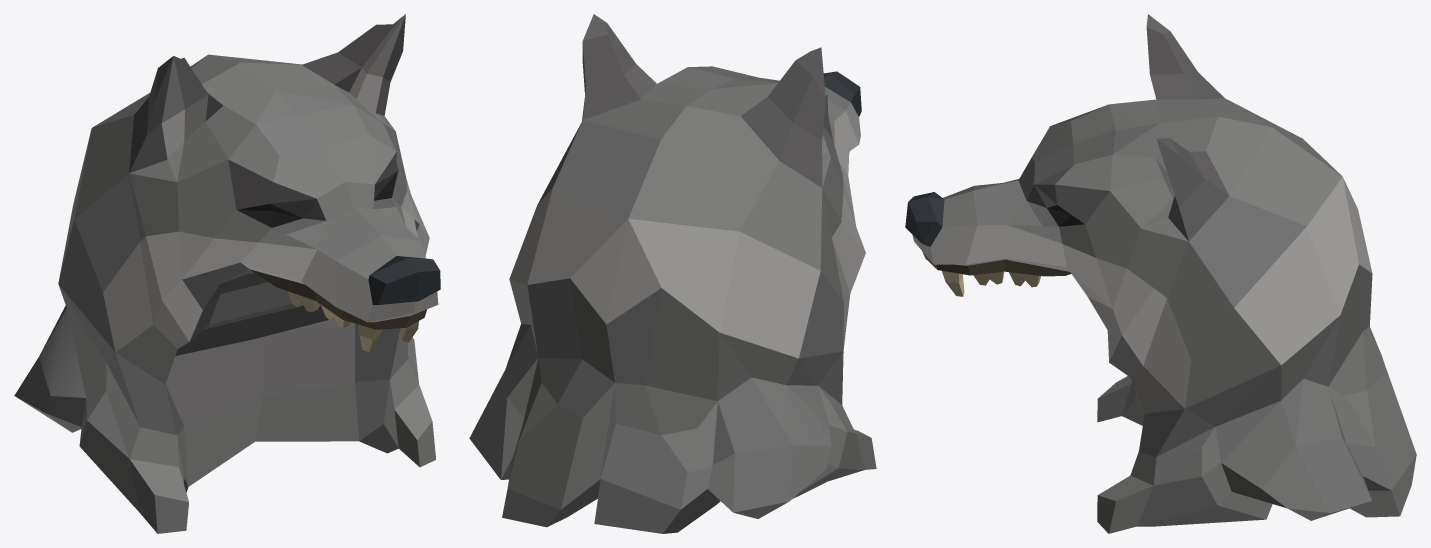
File: Chr_HeadCoverings_No_Hair_10_Static.fbx
3 views of the same model, side by side, from view 1: azimuth 30°, elevation 25°; view 2: azimuth 150°, elevation 25°; view 3: azimuth 270°, elevation 25° (orthographic). The views are drawn at different scales.
Parts seen in each view (by area): view 1: Chr_HeadCoverings_No_Hair_10_Static; view 2: Chr_HeadCoverings_No_Hair_10_Static; view 3: Chr_HeadCoverings_No_Hair_10_Static.
Part boxes in pixels (x1,y1,x2,y2): Chr_HeadCoverings_No_Hair_10_Static: (14, 14, 440, 533); Chr_HeadCoverings_No_Hair_10_Static: (469, 14, 876, 533); Chr_HeadCoverings_No_Hair_10_Static: (905, 14, 1416, 533).
Bounding box in the file's own units: 0.3849 × 0.4852 × 0.5352.
